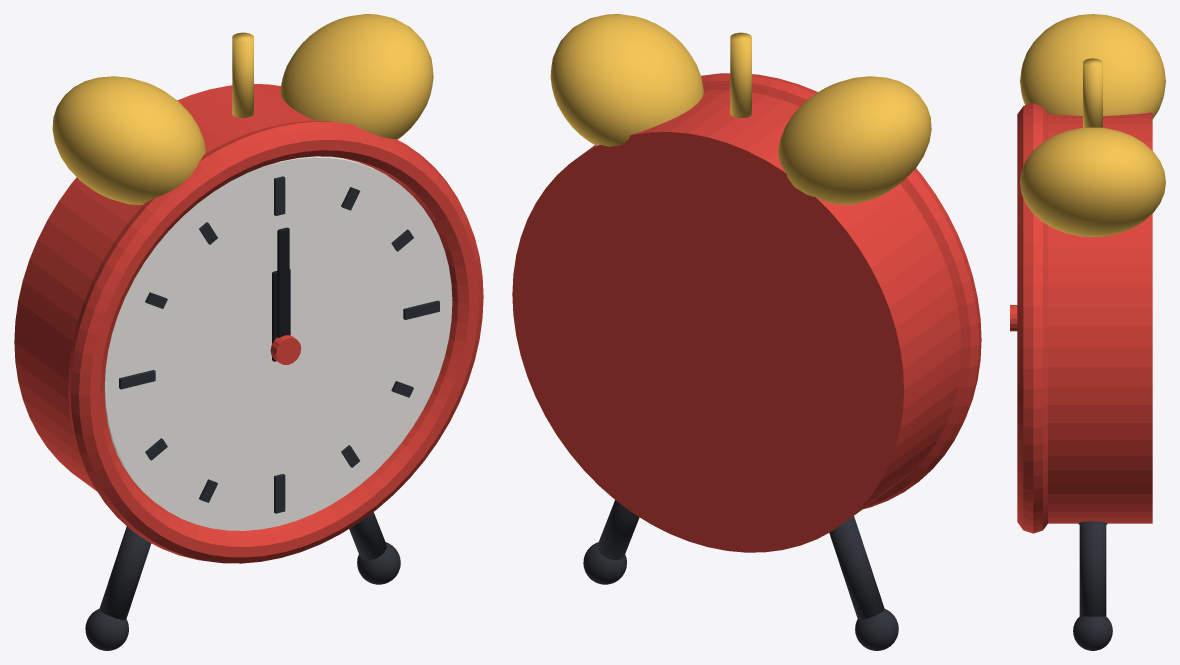
The model's file is despertador.glb.
The picture shows the model from 3 angles, left to right: view 1: azimuth 30°, elevation 25°; view 2: azimuth 150°, elevation 25°; view 3: azimuth 270°, elevation 25°; orthographic projection. The views are drawn at different scales.
Visible parts, largest first — view 1: Cylinder.001, Torus.030, Cylinder, Sphere, Sphere.002, Cylinder.004, Cylinder.007, aguja_m, Sphere.001, Cylinder.006, Sphere.003, Cylinder.002; view 2: Cylinder, Sphere, Sphere.002, Torus.030, Cylinder.004, Cylinder.007, Cylinder.006, Sphere.001, Sphere.003; view 3: Cylinder, Sphere.002, Torus.030, Sphere, Cylinder.006, Cylinder.007, Sphere.003.
Boxes of the visible parts, <box> form: Cylinder.001: <box>104,156,452,530</box>; Torus.030: <box>68,121,483,563</box>; Cylinder: <box>14,84,315,490</box>; Sphere: <box>52,76,205,204</box>; Sphere.002: <box>280,14,433,139</box>; Cylinder.004: <box>99,526,151,619</box>; Cylinder.007: <box>232,32,253,117</box>; aguja_m: <box>277,227,289,337</box>; Sphere.001: <box>85,609,128,650</box>; Cylinder.006: <box>349,512,386,560</box>; Sphere.003: <box>357,542,400,584</box>; Cylinder.002: <box>270,335,301,364</box>; Cylinder: <box>512,89,961,552</box>; Sphere: <box>778,76,931,204</box>; Sphere.002: <box>550,14,703,146</box>; Torus.030: <box>701,73,981,509</box>; Cylinder.004: <box>829,516,884,619</box>; Cylinder.007: <box>730,32,751,117</box>; Cylinder.006: <box>597,500,639,560</box>; Sphere.001: <box>855,609,898,650</box>; Sphere.003: <box>583,542,626,584</box>; Cylinder: <box>1048,112,1152,523</box>; Sphere.002: <box>1020,127,1165,236</box>; Torus.030: <box>1017,103,1047,533</box>; Sphere: <box>1020,14,1165,118</box>; Cylinder.006: <box>1079,521,1106,616</box>; Cylinder.007: <box>1083,58,1102,127</box>; Sphere.003: <box>1073,616,1112,650</box>.
Size of the model in its own units: 1.3 by 1.75 by 0.47.
